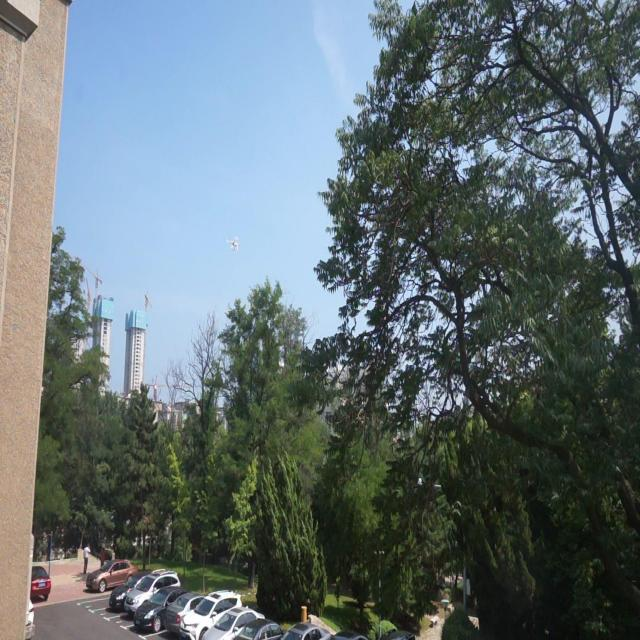UAV: (226, 236, 241, 252)
